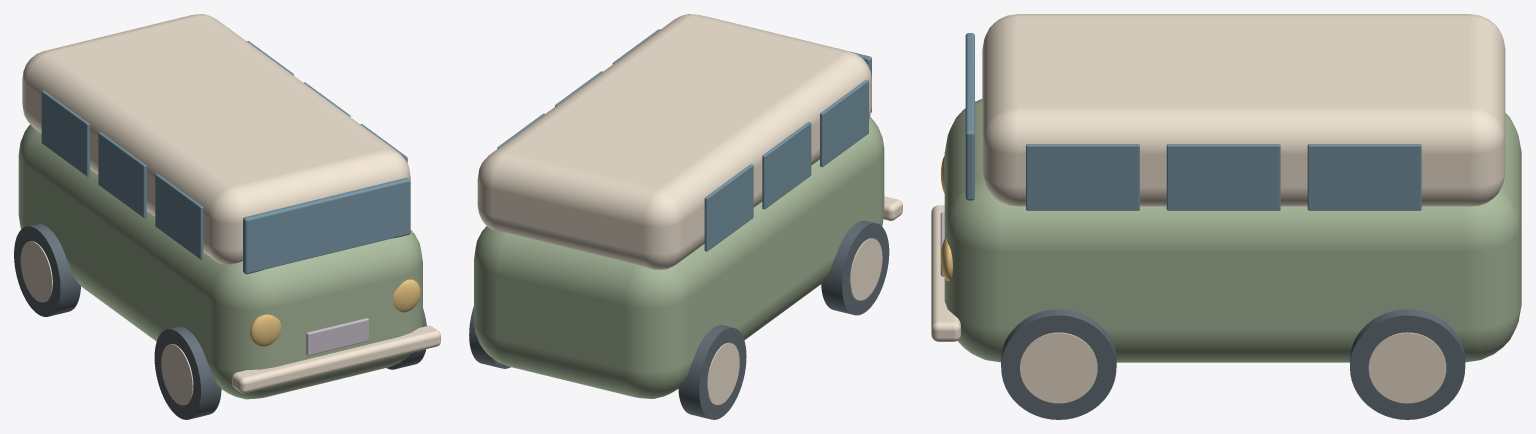
The model's file is van.glb.
The picture shows the model from 3 angles, left to right: view 1: azimuth 30°, elevation 25°; view 2: azimuth 150°, elevation 25°; view 3: azimuth 270°, elevation 25°; orthographic projection. The views are drawn at different scales.
Visible parts, largest first — view 1: roof and cabin, body, windshield, circular moulding (×4), side glass (×3), front bumper, grille, headlight (×2); view 2: roof and cabin, body, circular moulding (×5), side glass (×3); view 3: body, roof and cabin, side glass (×3), circular moulding (×4), front bumper, windshield.
Boxes of the visible parts, box(x1,y1,x2,y2) form: roof and cabin: box(22, 14, 410, 264); body: box(18, 124, 422, 399); windshield: box(243, 177, 410, 274); circular moulding (×4): box(14, 223, 221, 419); side glass (×3): box(41, 90, 203, 259); front bumper: box(232, 325, 440, 393); grille: box(306, 318, 368, 355); headlight (×2): box(250, 279, 420, 346); roof and cabin: box(477, 14, 871, 269); body: box(474, 117, 884, 398); circular moulding (×5): box(469, 220, 889, 419); side glass (×3): box(704, 79, 868, 251); body: box(944, 99, 1521, 362); roof and cabin: box(982, 14, 1505, 206); side glass (×3): box(1026, 144, 1421, 210); circular moulding (×4): box(1001, 309, 1465, 419); front bumper: box(931, 205, 960, 341); windshield: box(965, 33, 974, 200).
Bounding box in the file's own units: 2.44 × 2.38 × 4.4.
